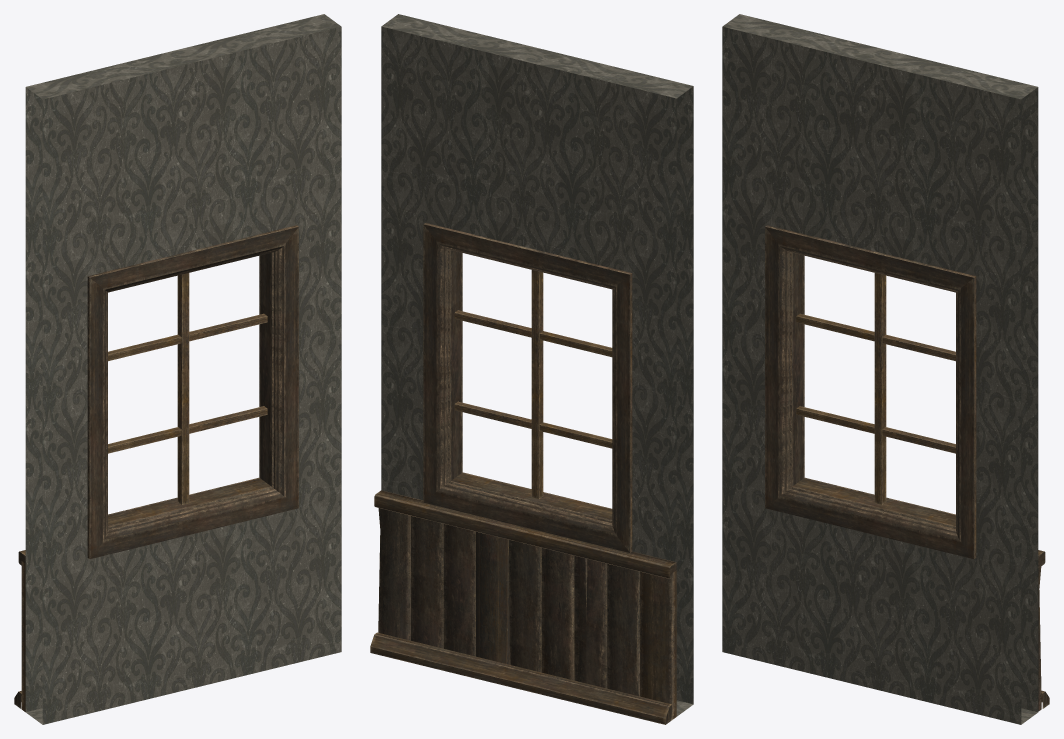
Rendered from SM_Wall_2m_Win.fbx.
3 renders of one model, left to right at view 1: azimuth 30°, elevation 25°; view 2: azimuth 150°, elevation 25°; view 3: azimuth 330°, elevation 25°, orthographic.
Visible parts, largest first — view 1: SM_Wall_2m_Win; view 2: SM_Wall_2m_Win; view 3: SM_Wall_2m_Win.
Boxes of the visible parts, box(x1,y1,x2,y2) form: SM_Wall_2m_Win: box(14, 14, 341, 724); SM_Wall_2m_Win: box(370, 14, 693, 724); SM_Wall_2m_Win: box(722, 14, 1049, 724).
Bounding box in the file's own units: 2 × 4 × 0.355.
